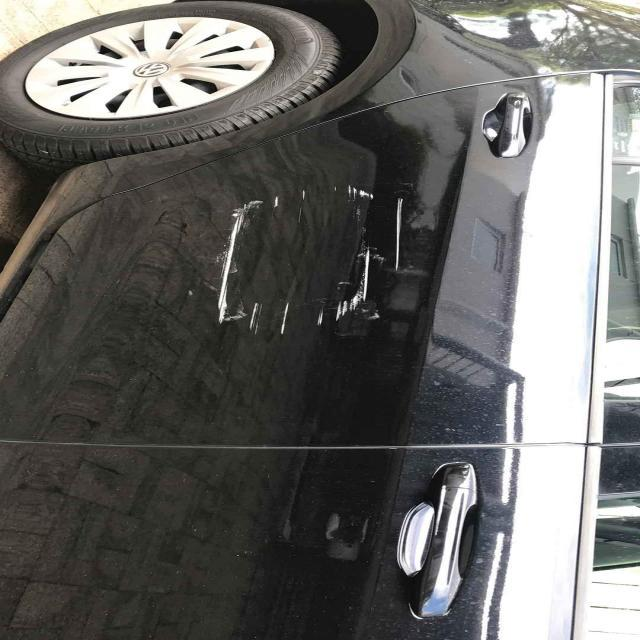scratch: (202, 185, 300, 338), (308, 181, 379, 326), (379, 190, 415, 284)
